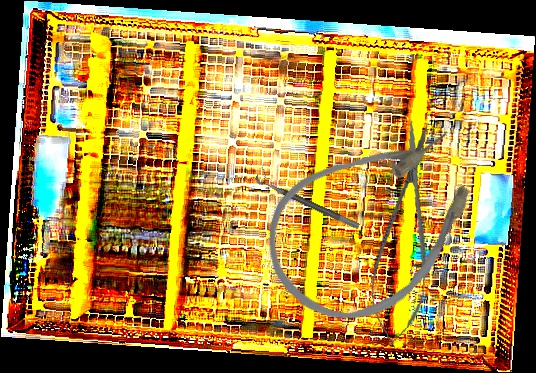Cannula: (239, 96, 513, 352)
Fixation Ring: (253, 166, 365, 231)
Micro Scissor: (363, 116, 448, 351)
